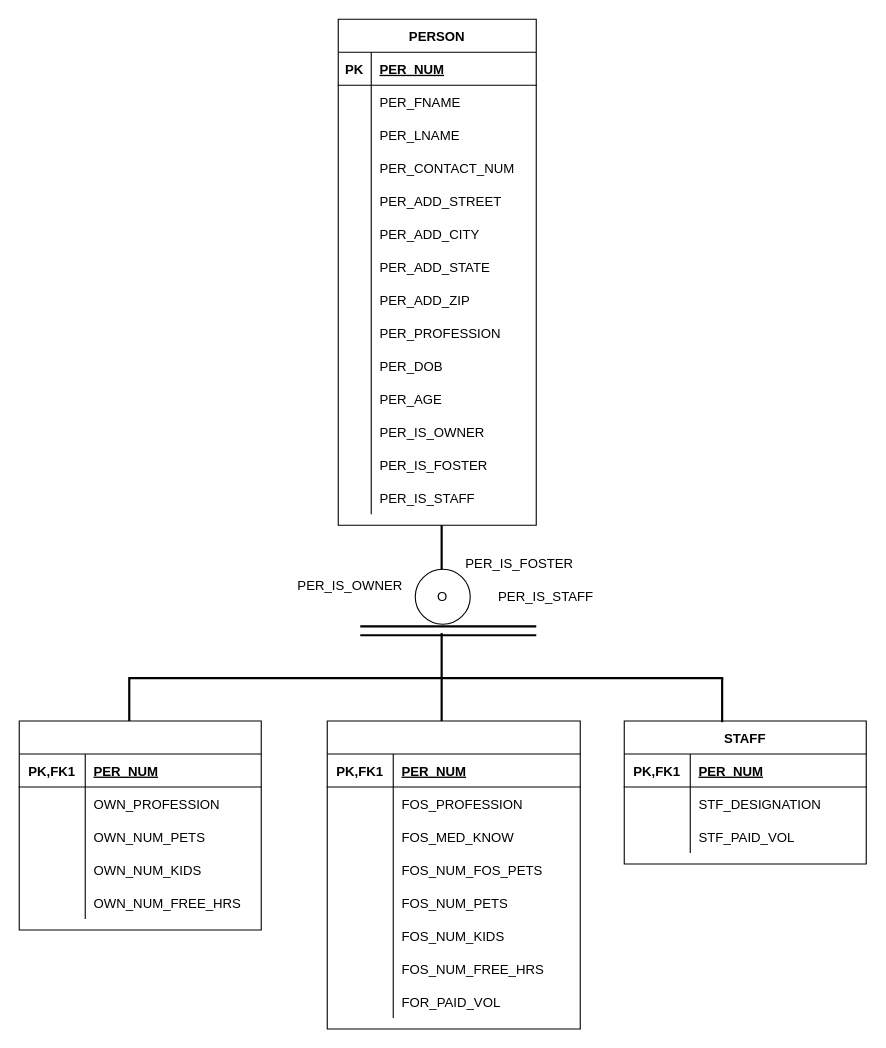
This 886x1048 diagram has some shape labels left out. Here are the shapes that lost their labels. From the top down, the box of each, then its label:
(18, 720, 261, 930): OWNER
(326, 720, 580, 1029): FOSTER
